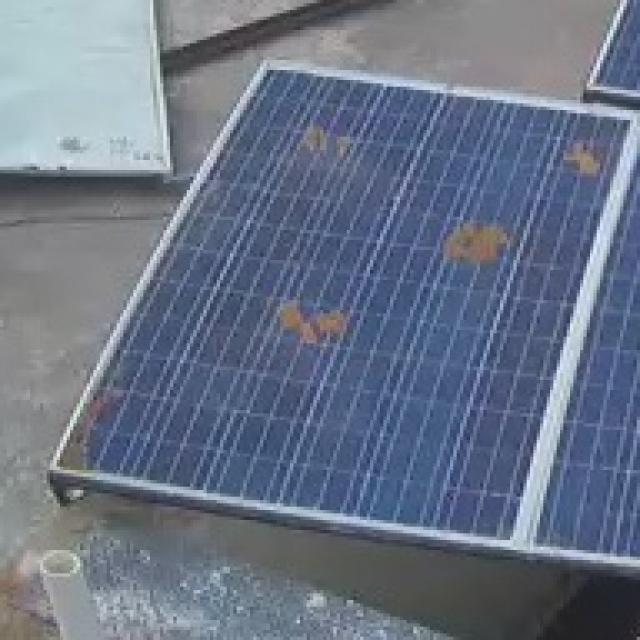Anomaly Solar Panel: (45, 63, 638, 546)
Surface Contaminant: (264, 297, 358, 352), (437, 214, 516, 273), (64, 391, 122, 470), (285, 130, 362, 172), (548, 146, 605, 184)
